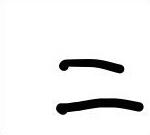eqv: (57, 59, 144, 114)
